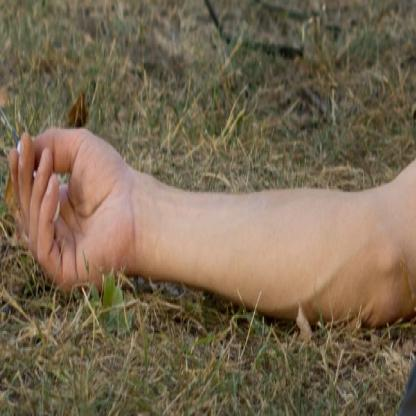hand: (0, 116, 416, 325)
